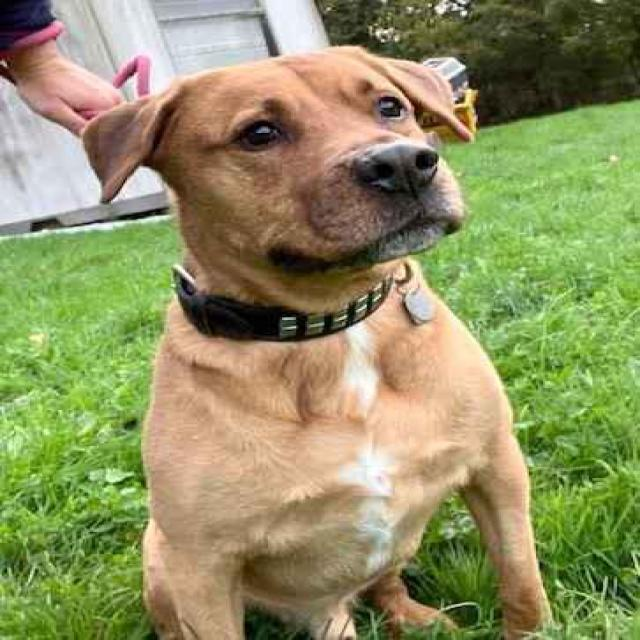Dog: (77, 35, 482, 288)
